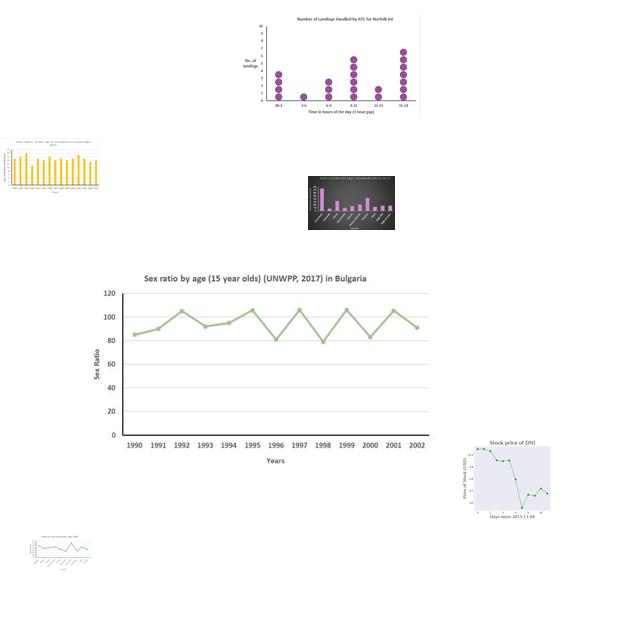Graph: (85, 263, 441, 474), (238, 13, 421, 119), (455, 436, 567, 520), (0, 138, 101, 196), (308, 176, 395, 230), (27, 534, 92, 572)
